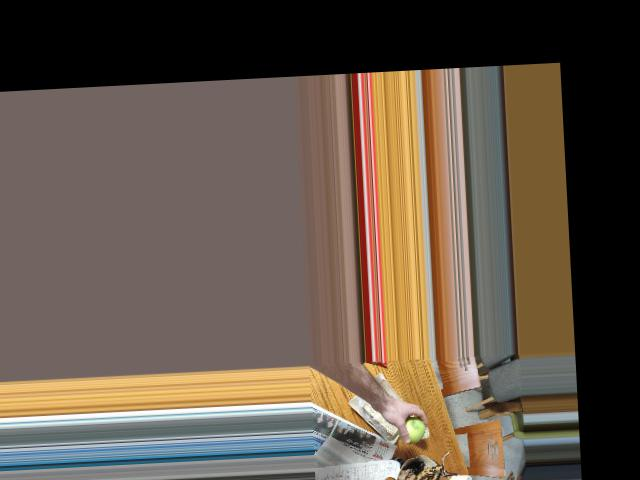apple: (397, 415, 427, 443)
